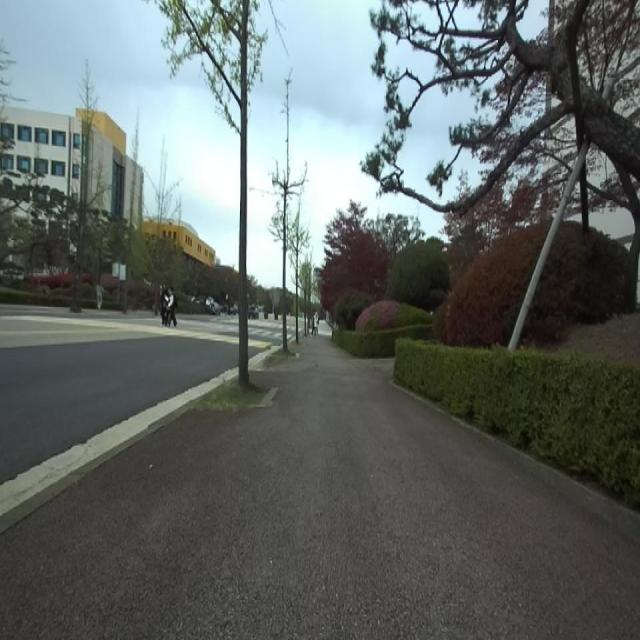sidewalk: (0, 336, 640, 639), (0, 400, 198, 534)
